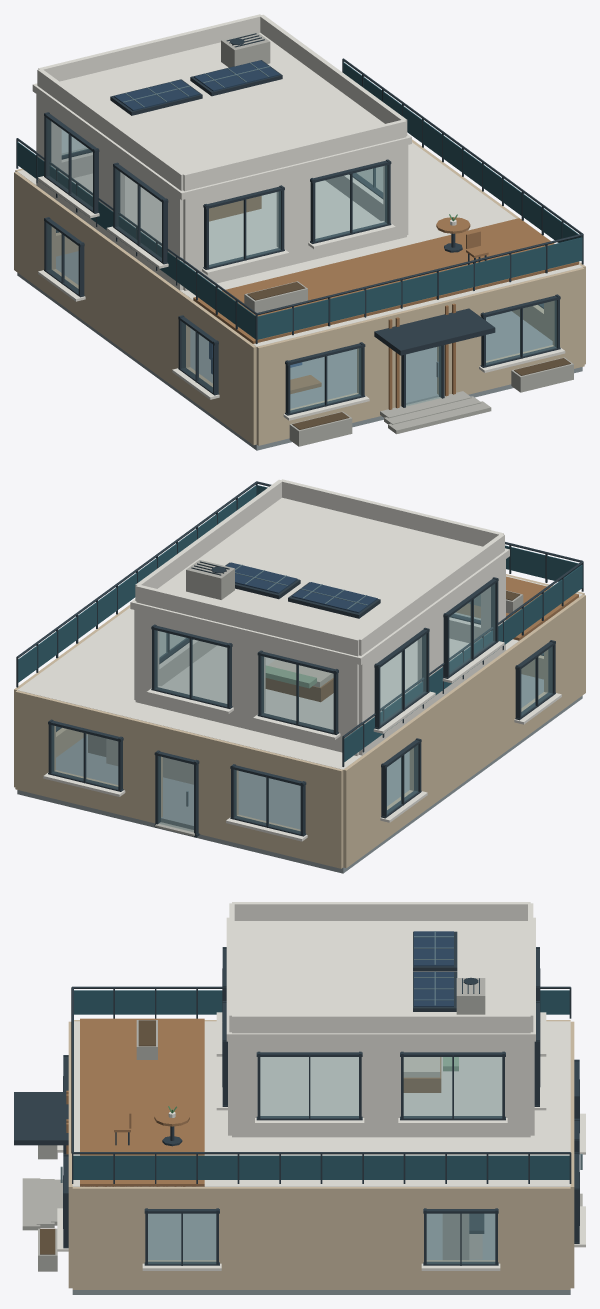
File: House_9.fbx
3 views of the same model, one above another, from view 1: azimuth 30°, elevation 25°; view 2: azimuth 150°, elevation 25°; view 3: azimuth 270°, elevation 25° (orthographic). The views are drawn at different scales.
Parts seen in each view (by area): view 1: House_9; view 2: House_9; view 3: House_9.
Boxes of the visible parts, <box> form: House_9: <box>14,14,585,450</box>; House_9: <box>14,479,585,873</box>; House_9: <box>14,902,585,1294</box>.
Size of the model in its own units: 11.87 by 7.32 by 16.09.
